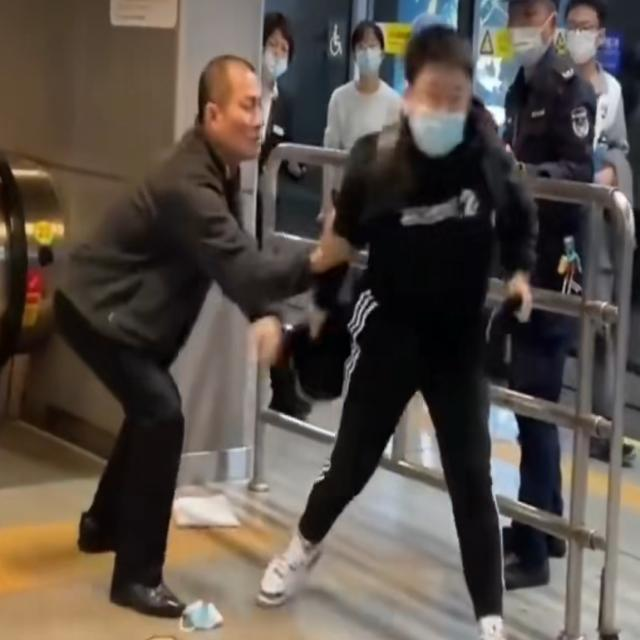fight: (158, 42, 507, 395)
